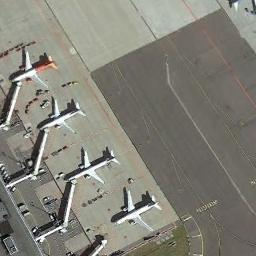Airplane: (57, 145, 120, 184), (110, 185, 162, 232), (9, 49, 58, 89), (36, 95, 86, 134)
